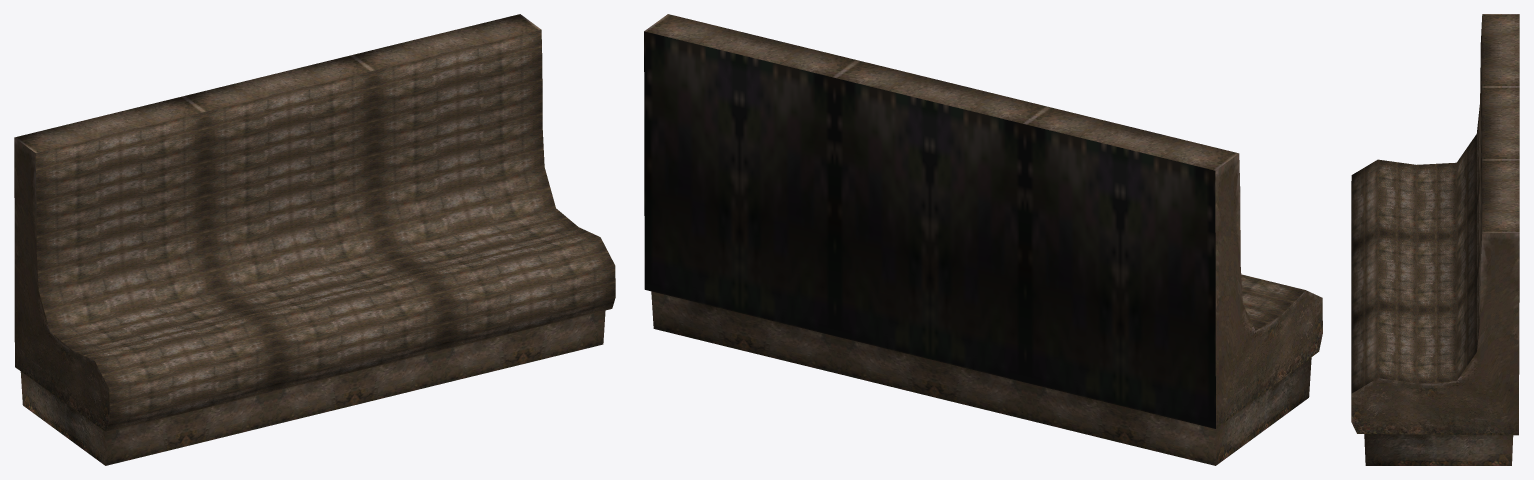
File: thm_frn_chair_s02_l1.fbx
The picture shows the model from 3 angles, left to right: view 1: azimuth 30°, elevation 25°; view 2: azimuth 150°, elevation 25°; view 3: azimuth 270°, elevation 25°; orthographic projection. The views are drawn at different scales.
Visible parts, largest first — view 1: mesh_node; view 2: mesh_node; view 3: mesh_node.
Part boxes in pixels (box(x1,y1,x2,y2)): mesh_node: box(14, 14, 615, 465); mesh_node: box(644, 14, 1322, 465); mesh_node: box(1351, 14, 1519, 465).
Bounding box in the file's own units: 2.18 × 1.09 × 0.7097.
Materials: 1 (1 with a texture image).
